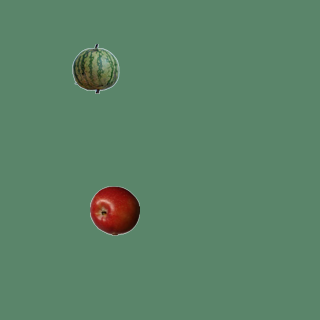Apple Braeburn: (89, 185, 139, 235)
Watermelon: (70, 43, 120, 93)
